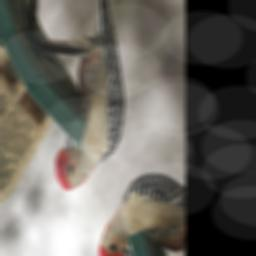Woodpecker: (12, 0, 164, 208)
